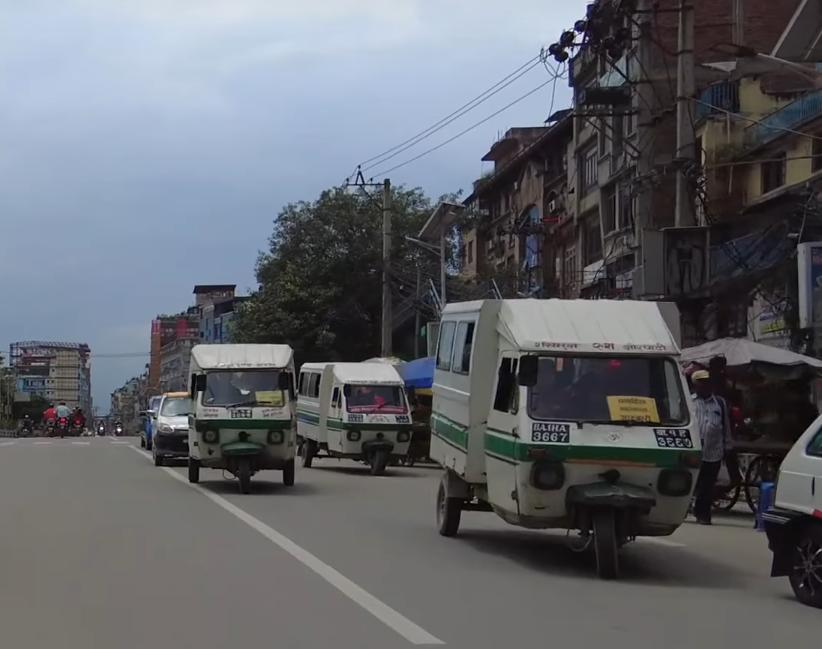taxi: (150, 384, 200, 465)
tempo: (426, 293, 706, 572), (182, 335, 303, 489), (295, 357, 418, 472)
